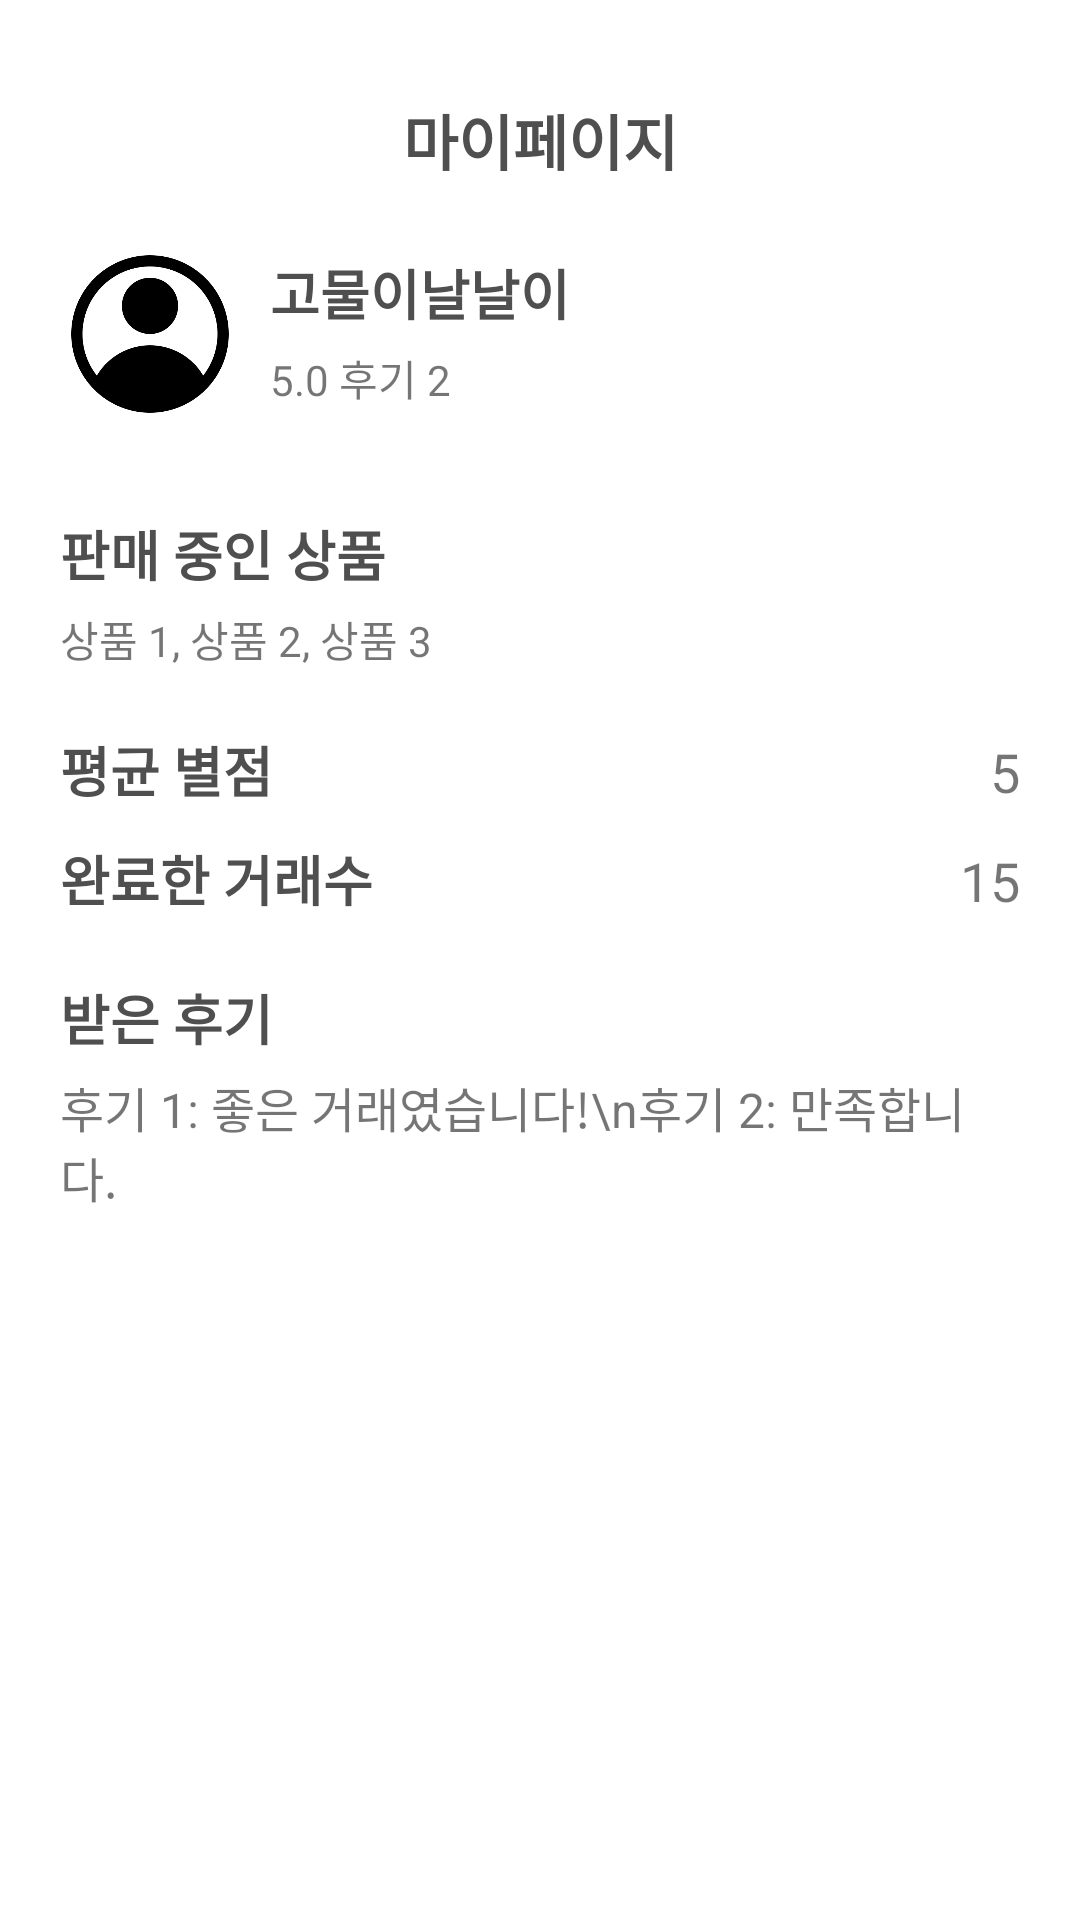

Screen size 1080×1920. Icon name, then its box in pixels as (x1, y1, x2, y2):
user: (71, 255, 229, 413)
